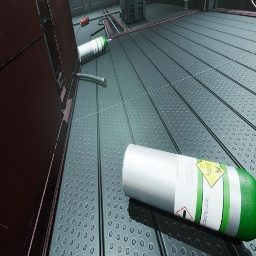0: (122, 144, 256, 242), (77, 36, 112, 63)
FireExtinguisher ]: (78, 17, 90, 26)
